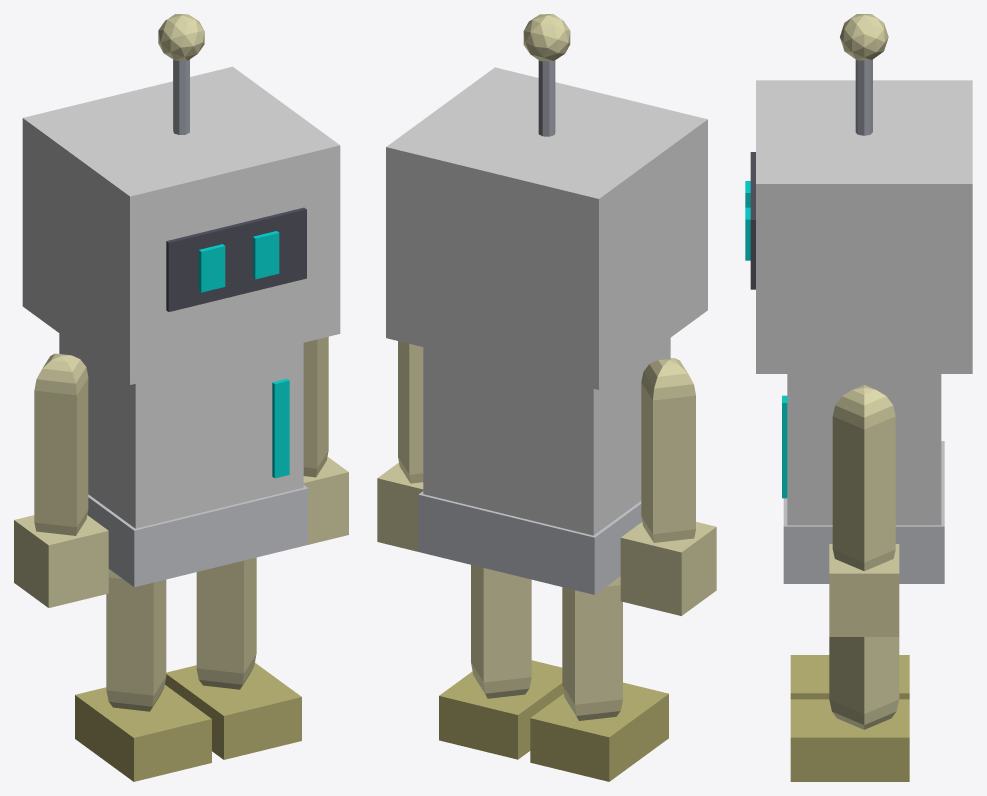
Rendered from robot_yellow.glb.
3 views of the same model, side by side, from view 1: azimuth 30°, elevation 25°; view 2: azimuth 150°, elevation 25°; view 3: azimuth 270°, elevation 25° (orthographic).
Parts seen in each view (by area): view 1: geometry_0; view 2: geometry_0; view 3: geometry_0.
Part boxes in pixels (left/top/right/bottom): geometry_0: left=14, top=14, right=348, bottom=781; geometry_0: left=377, top=14, right=716, bottom=781; geometry_0: left=745, top=14, right=972, bottom=781.
Bounding box in the file's own units: 1 × 2.29 × 0.65.
